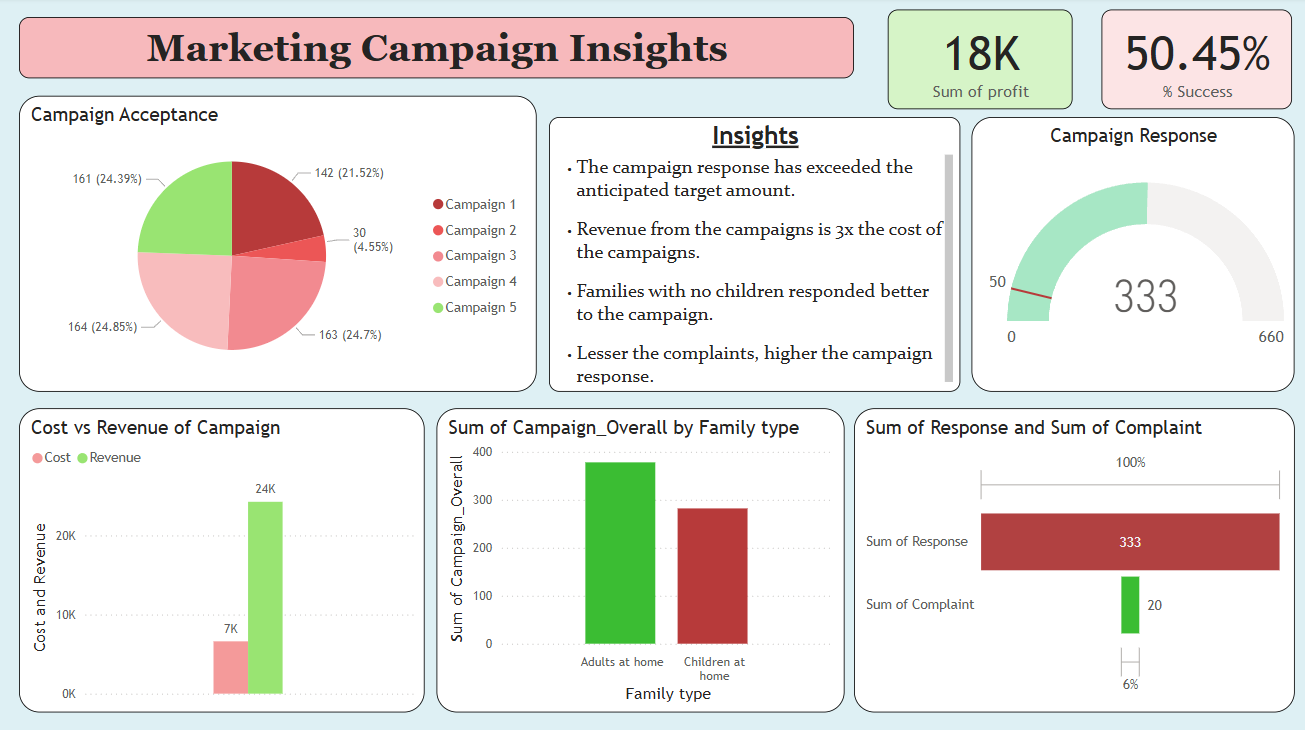

The dashboard page shown, as its layout file describes it:
{"tool":"powerbi","page":{"name":"Marketing Campaign Insights","canvas":[1280,720],"ordinal":1},"visuals":[{"type":"clusteredColumnChart","title":"Cost vs Revenue of Campaign","fields":{"Y":["Sum(ifood_df.Z_CostContact)","Sum(ifood_df.Z_Revenue)"]},"box":[19.5,402.1,396.5,297.7],"z":0},{"type":"pieChart","title":"Campaign Acceptance","fields":{"Y":["Sum(ifood_df.Campaign_1)","Sum(ifood_df.Campaign_2)","Sum(ifood_df.Campaign_3)","Sum(ifood_df.Campaign_4)","Sum(ifood_df.Campaign_5)"]},"box":[19.5,96,506.4,289.4],"z":1000},{"type":"gauge","title":"Campaign Response","fields":{"Y":["Sum(ifood_df.Response)"],"MaxValue":["Sum(ifood_df.Campaign_Overall)"],"TargetValue":["ifood_df.Target Response"]},"box":[951.7,116.9,315.8,268.5],"z":2000},{"type":"funnel","fields":{"Y":["Sum(ifood_df.Response)","Sum(ifood_df.Complaint)"]},"box":[836.2,402.1,431.3,297.7],"z":3000},{"type":"clusteredColumnChart","fields":{"Y":["Sum(ifood_df.Campaign_Overall)"],"Category":["ifood_df.Family type"]},"box":[428.5,402.1,399.3,297.7],"z":4000},{"type":"textbox","box":[19.5,19.5,816.7,59.8],"z":5000},{"type":"textbox","title":"Insights","box":[538.4,116.9,402.1,268.5],"z":6000},{"type":"card","fields":{"Values":["ifood_df.% Success"]},"box":[1078.3,12.5,186.4,97.4],"z":7000},{"type":"card","fields":{"Values":["Sum(ifood_df.profit)"]},"box":[869.6,12.5,180.9,97.4],"z":8000}]}

Visuals, with their boxes in screenshot pixels (x1, y1, x2, y2), scaled from the page's 1280x720 canvas onto the 1305x730 screenshot:
"Cost vs Revenue of Campaign" clusteredColumnChart: rect(20, 408, 424, 710)
"Campaign Acceptance" pieChart: rect(20, 97, 536, 391)
"Campaign Response" gauge: rect(970, 119, 1292, 391)
funnel - Sum(ifood_df.Response) x Sum(ifood_df.Complaint): rect(853, 408, 1292, 710)
clusteredColumnChart - Sum(ifood_df.Campaign_Overall) x ifood_df.Family type: rect(437, 408, 844, 710)
textbox: rect(20, 20, 853, 80)
"Insights" textbox: rect(549, 119, 959, 391)
card - ifood_df.% Success: rect(1099, 13, 1289, 111)
card - Sum(ifood_df.profit): rect(887, 13, 1071, 111)
